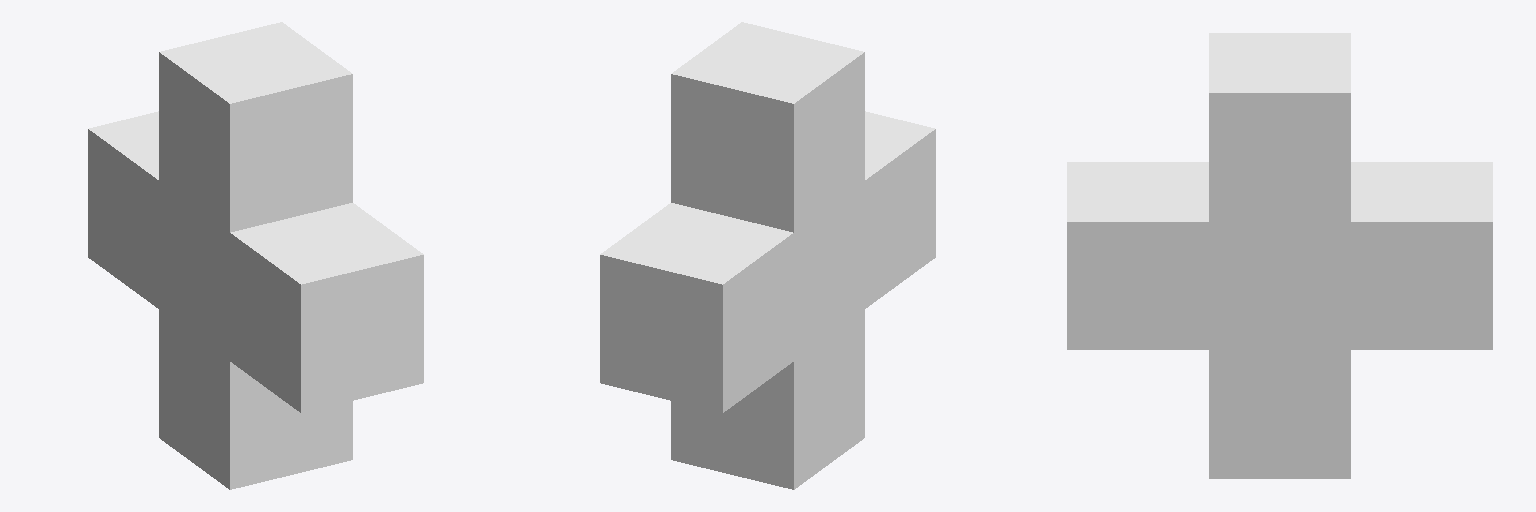
Rendered from BlasterSmall1Base.obj.
3 renders of one model, left to right at view 1: azimuth 30°, elevation 25°; view 2: azimuth 150°, elevation 25°; view 3: azimuth 270°, elevation 25°, orthographic.
Bounding box in the file's own units: 1 × 3 × 3.